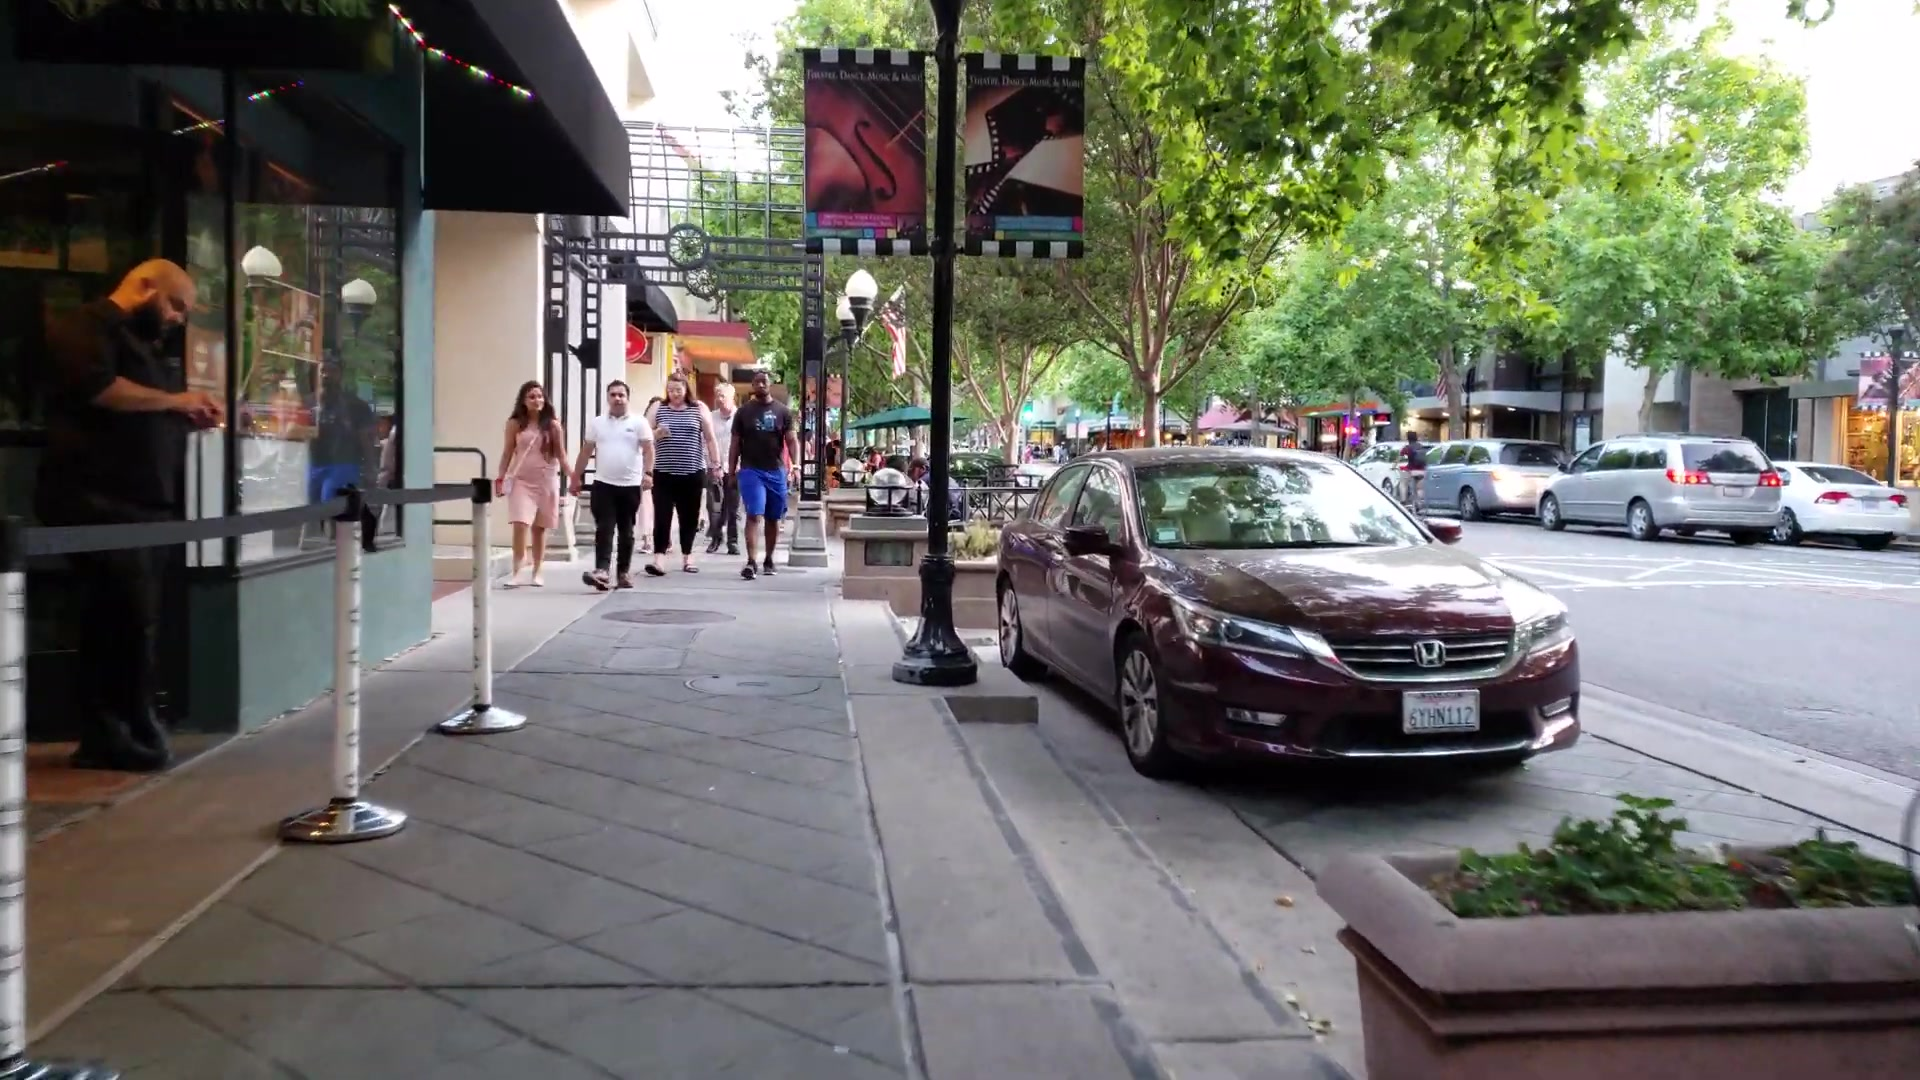vehicle_away: (1543, 435, 1782, 542)
vehicle_toward: (997, 452, 1584, 781)
